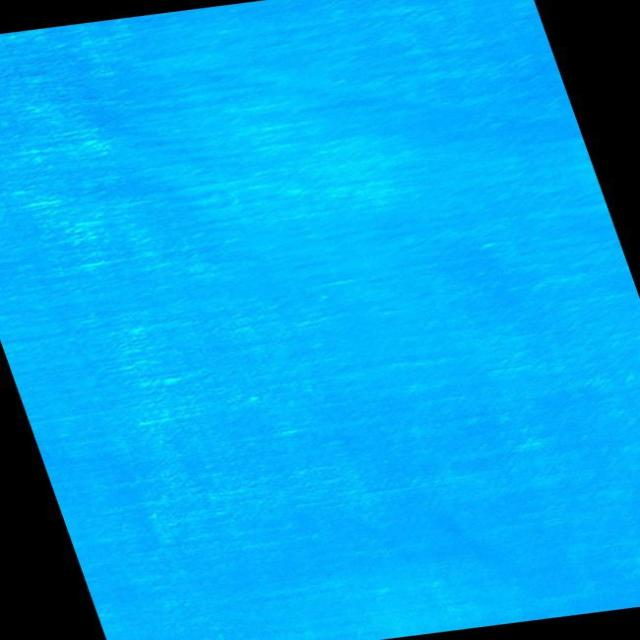color issues: (0, 26, 262, 607), (151, 92, 423, 229)
